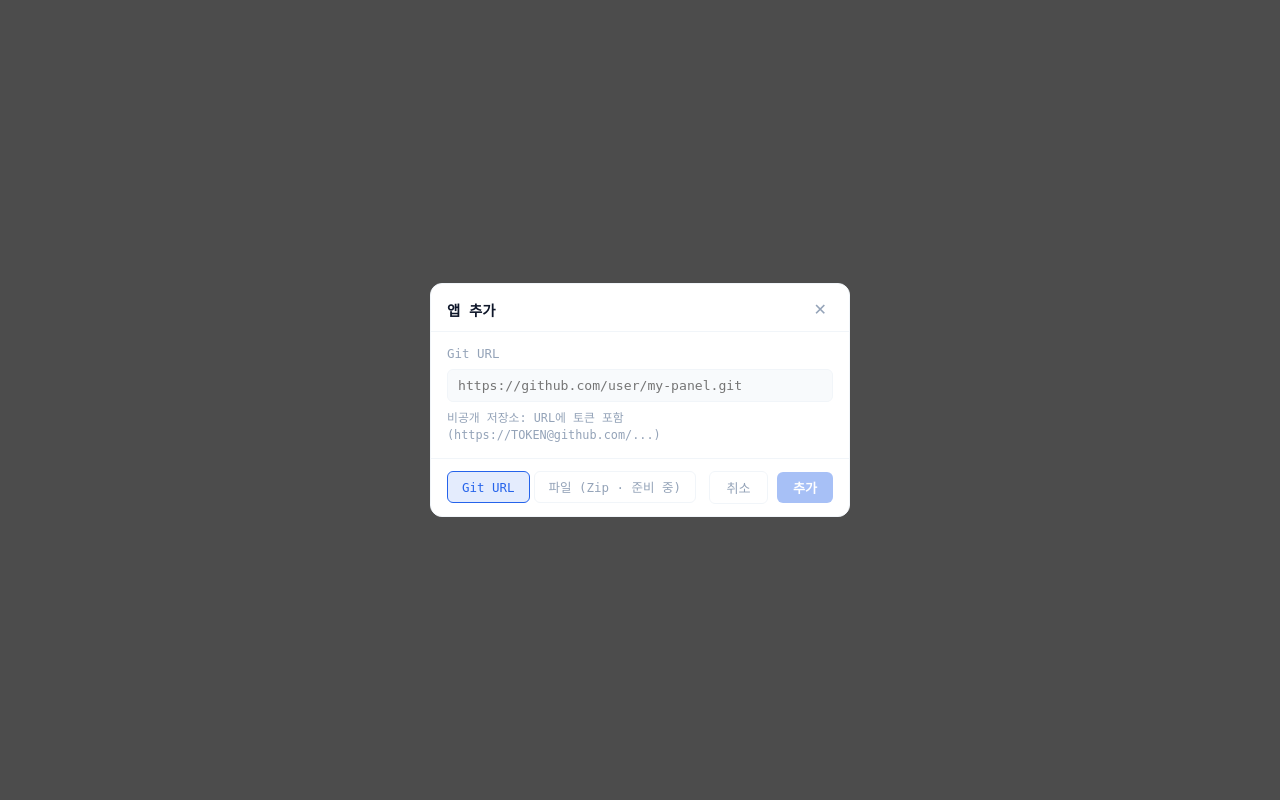
Test: AppInstallDialog — zip gating (#358 / #359) › Zip tab is gated: shows an in-development notice and keeps Add disabled
Click the button "파일 (Zip · 준비 중)" at (615, 487), box [534,471,696,503]
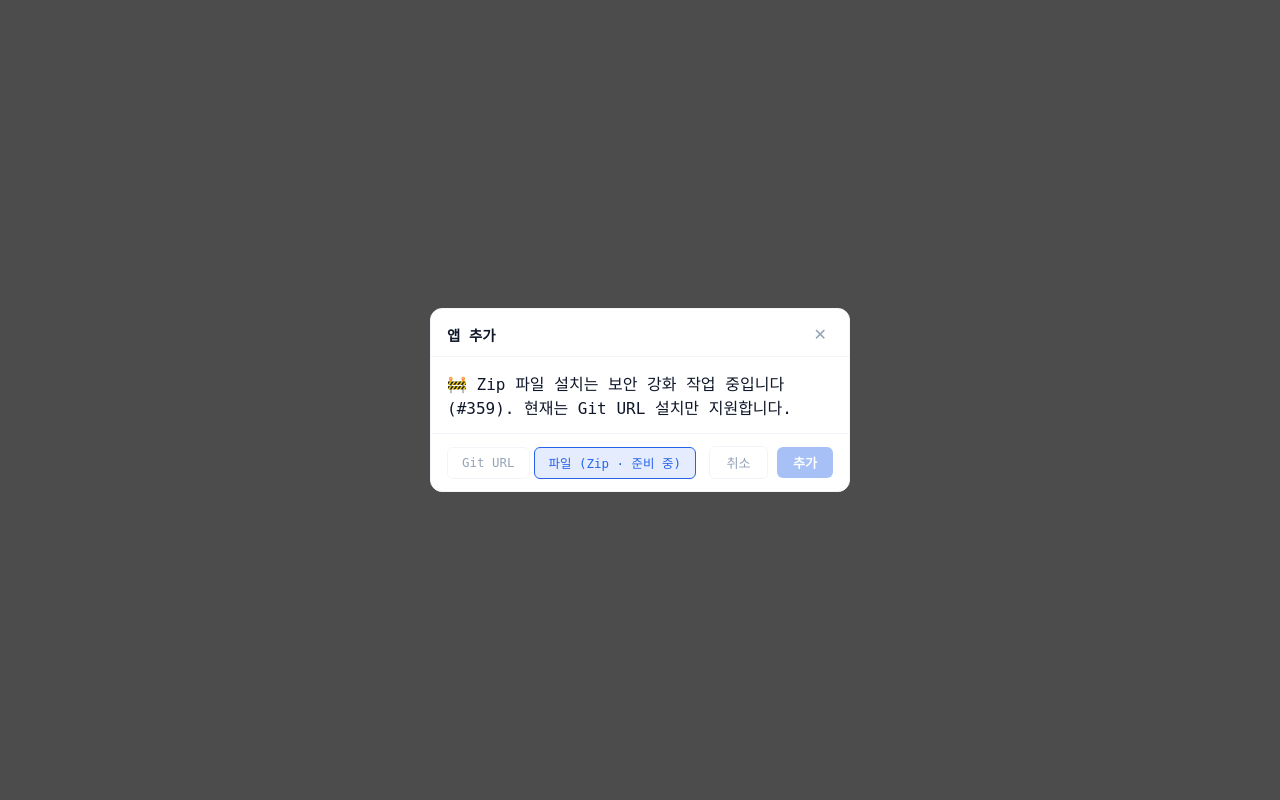
Expected: the button "추가" is disabled, [777,447,833,478]
Result: the text "🚧 Zip 파일 설치는 보안 강화 작업 중입니다 (#359). 현재는 Git URL 설치만 지원합니다." is shown at [447,371,833,419]
